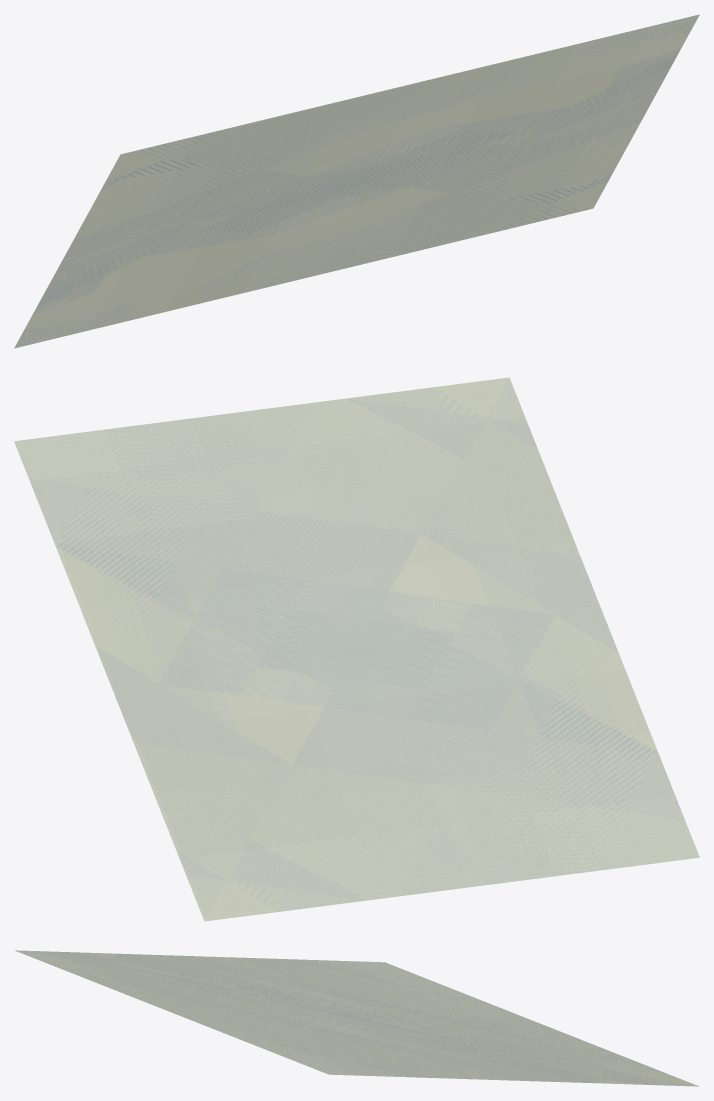
Rendered from 人民英雄纪念碑202.dae.
3 views of the same model, one above another, from view 1: azimuth 30°, elevation 25°; view 2: azimuth 150°, elevation 25°; view 3: azimuth 270°, elevation 25° (orthographic). The views are drawn at different scales.
Parts seen in each view (by area): view 1: SketchUp; view 2: SketchUp; view 3: SketchUp.
Boxes of the visible parts, bbox=[...] form: SketchUp: bbox=[14, 14, 699, 348]; SketchUp: bbox=[14, 377, 699, 921]; SketchUp: bbox=[14, 950, 699, 1086].
Size of the model in its own units: 18.87 by 18.73 by 5.42.
